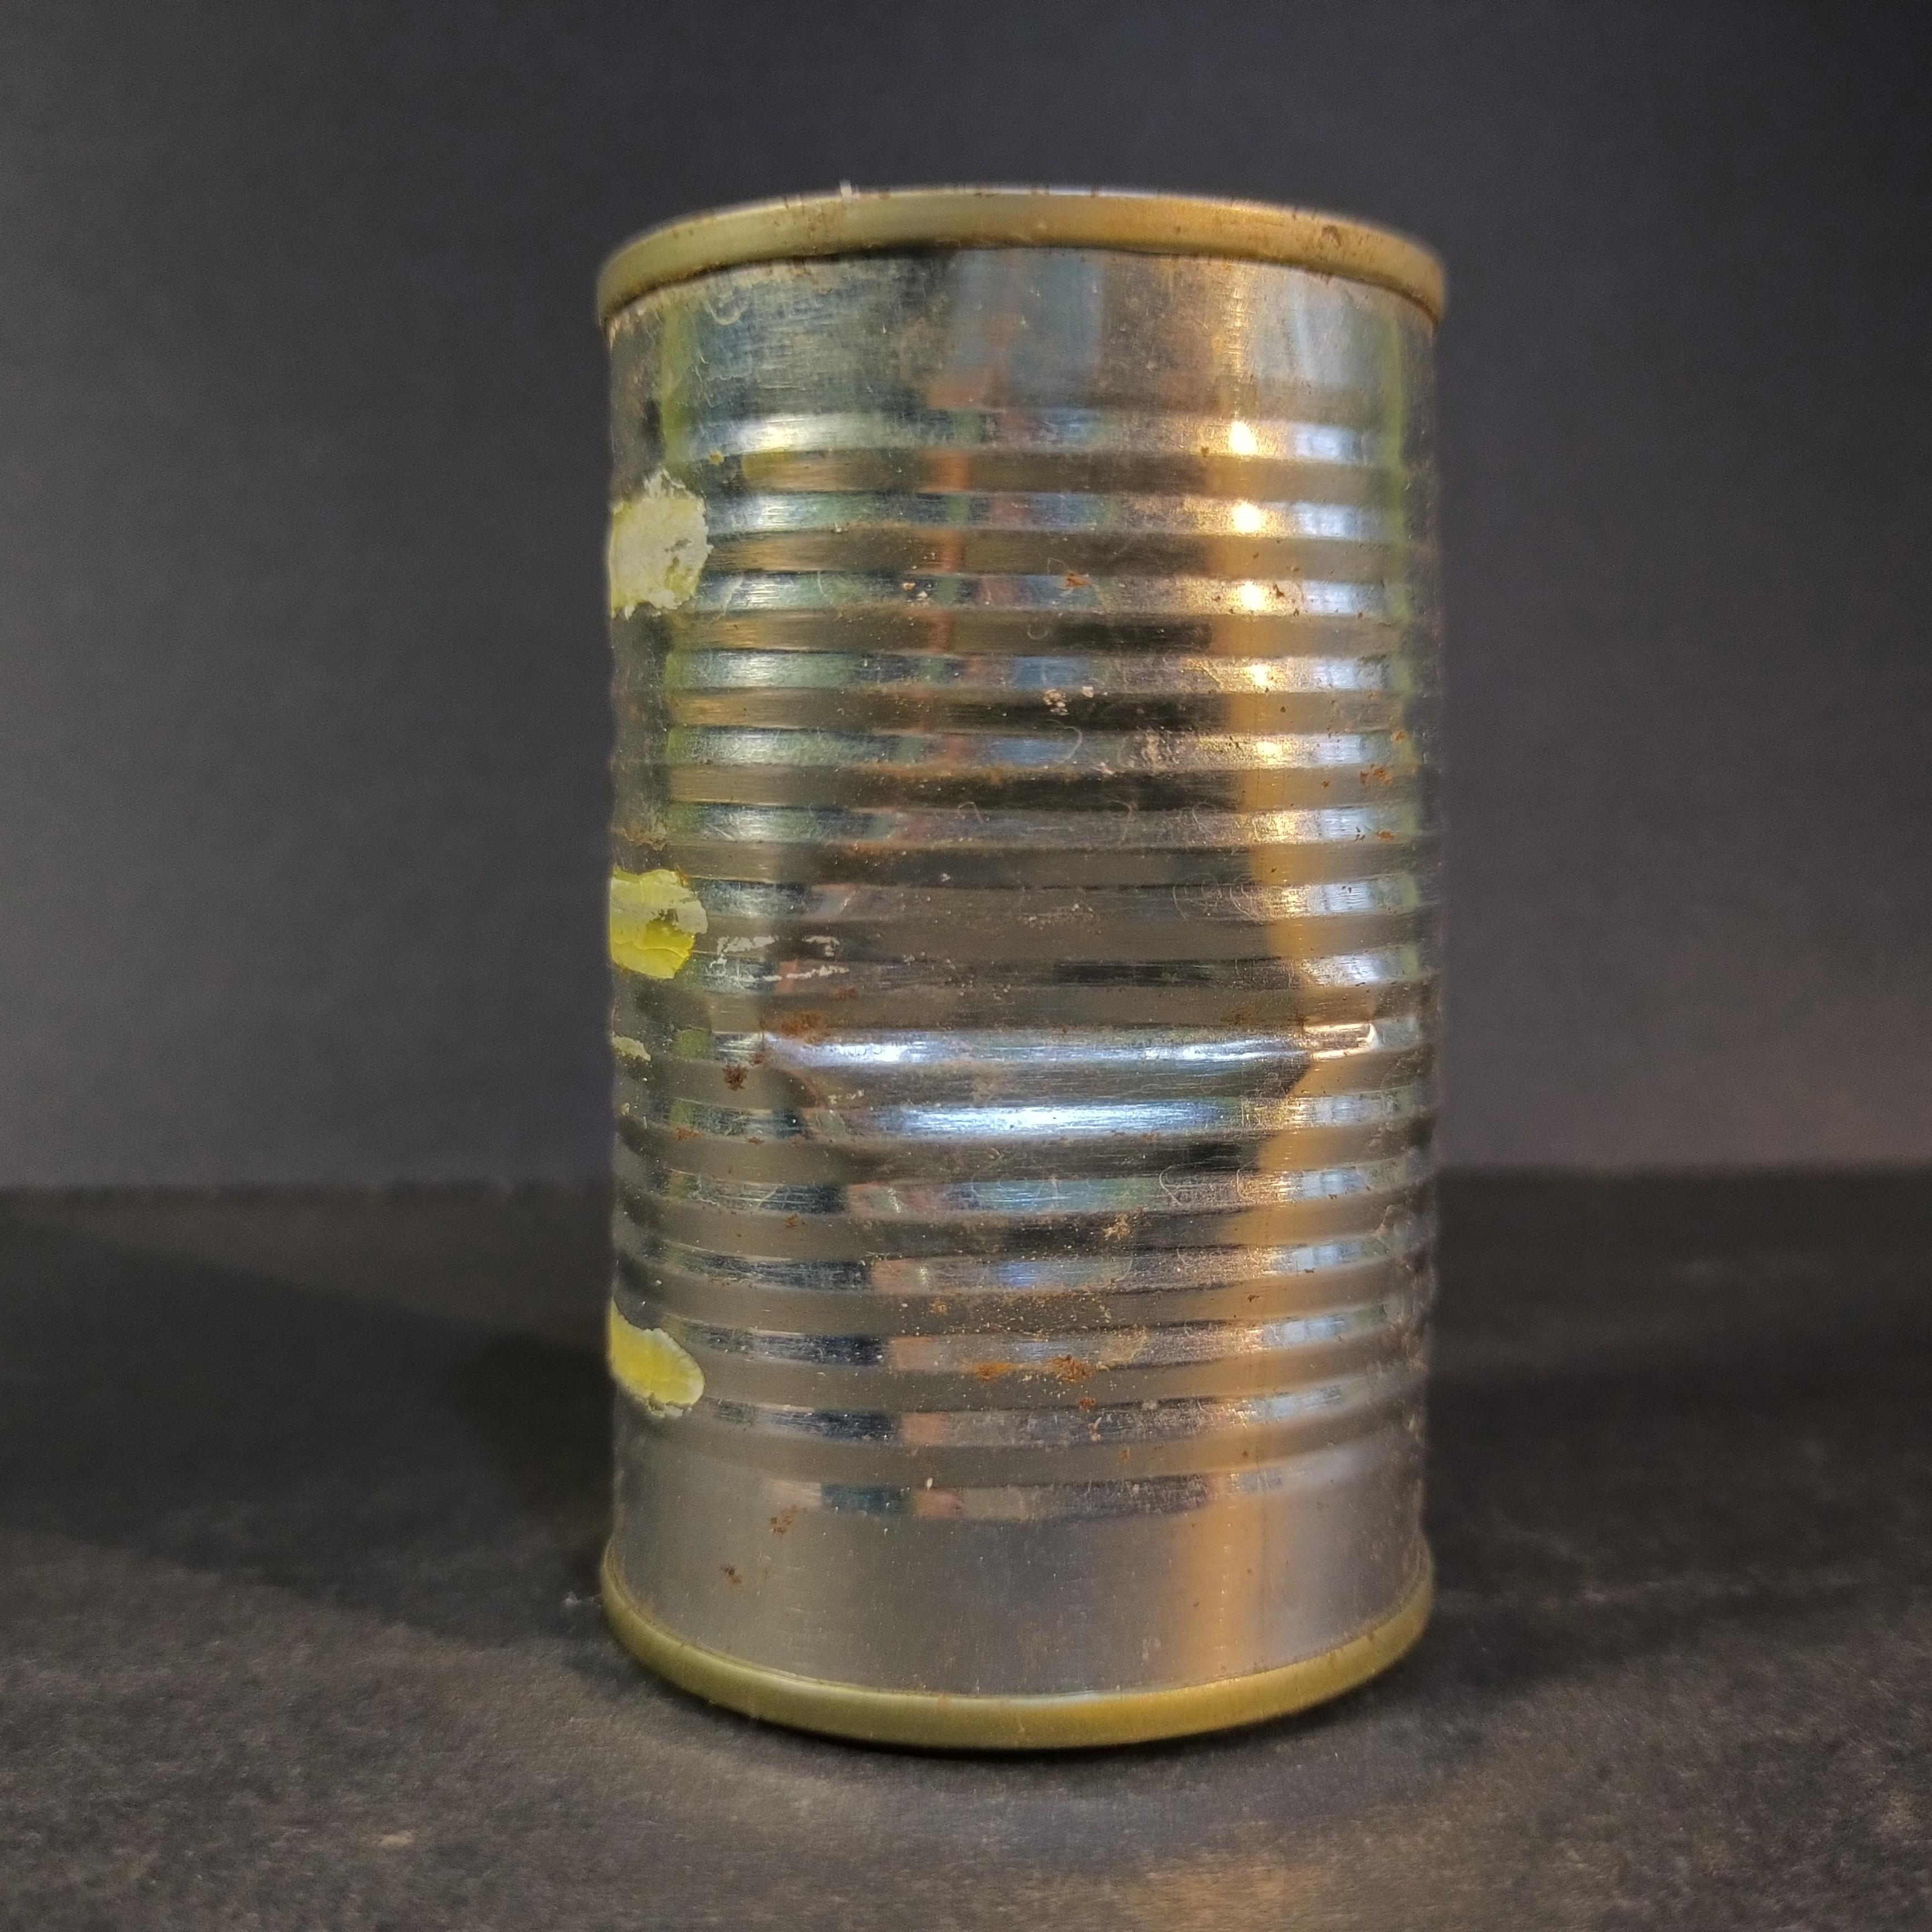Dented: (534, 142, 1520, 1759)
